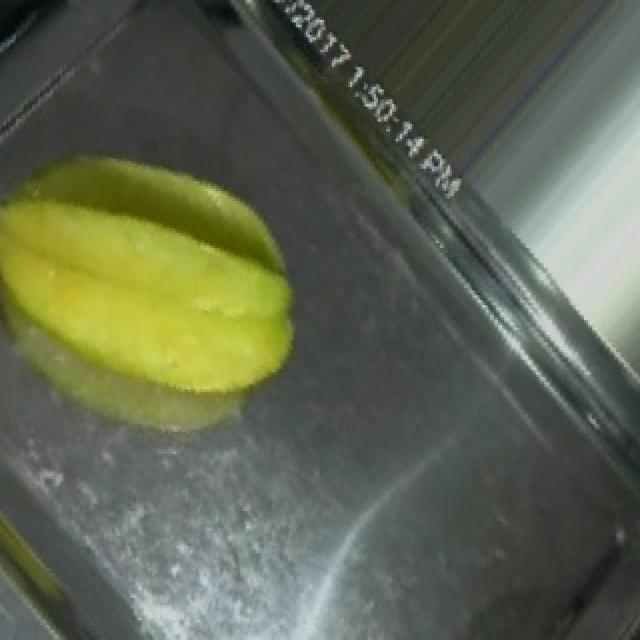fruit: (44, 87, 356, 486)
